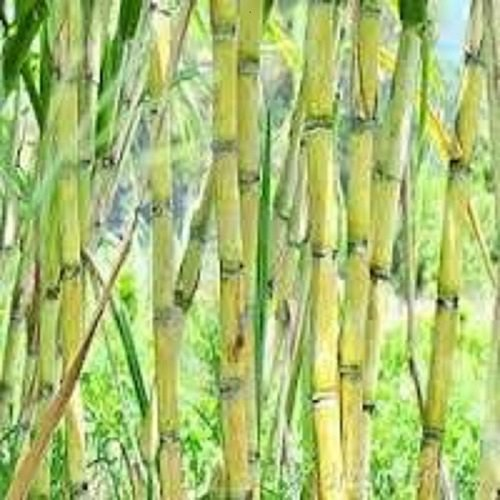sugarcane: (2, 3, 500, 494)
